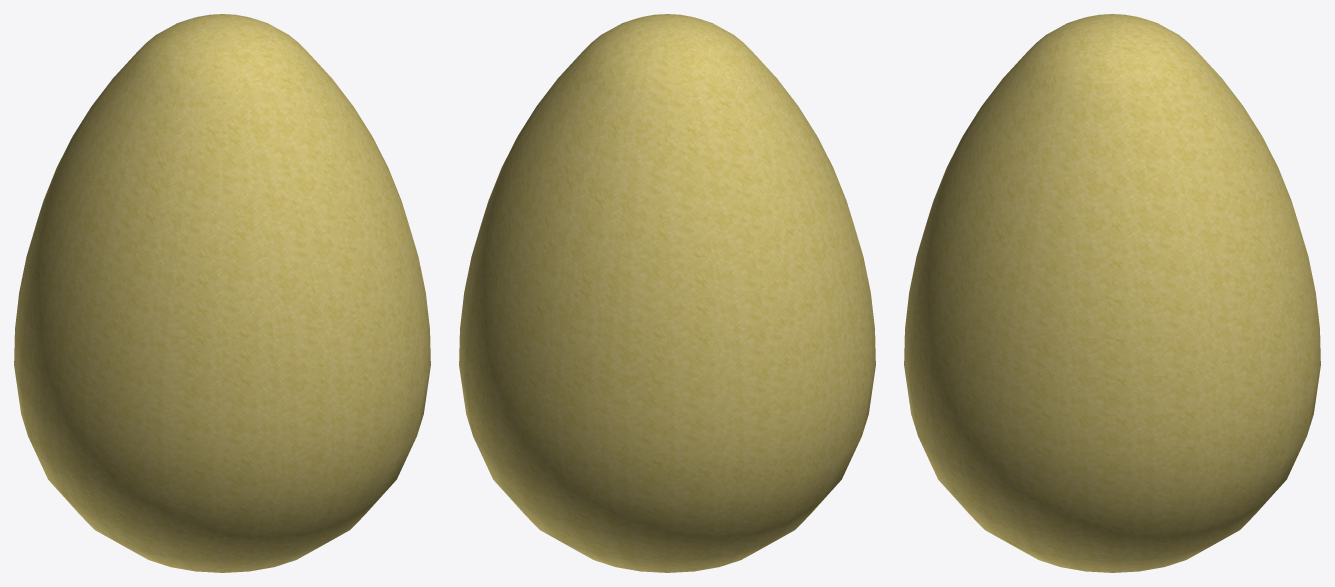
File: Egg.obj
The picture shows the model from 3 angles, left to right: view 1: azimuth 30°, elevation 25°; view 2: azimuth 150°, elevation 25°; view 3: azimuth 270°, elevation 25°; orthographic projection.
Visible parts, largest first — view 1: Mesh1 Model; view 2: Mesh1 Model; view 3: Mesh1 Model.
Boxes of the visible parts, box(x1,y1,x2,y2) form: Mesh1 Model: box(14, 14, 430, 572); Mesh1 Model: box(459, 14, 875, 572); Mesh1 Model: box(904, 14, 1320, 572).
Size of the model in its own units: 1.34 by 1.88 by 1.34.
Materials: 1 (1 with a texture image).
